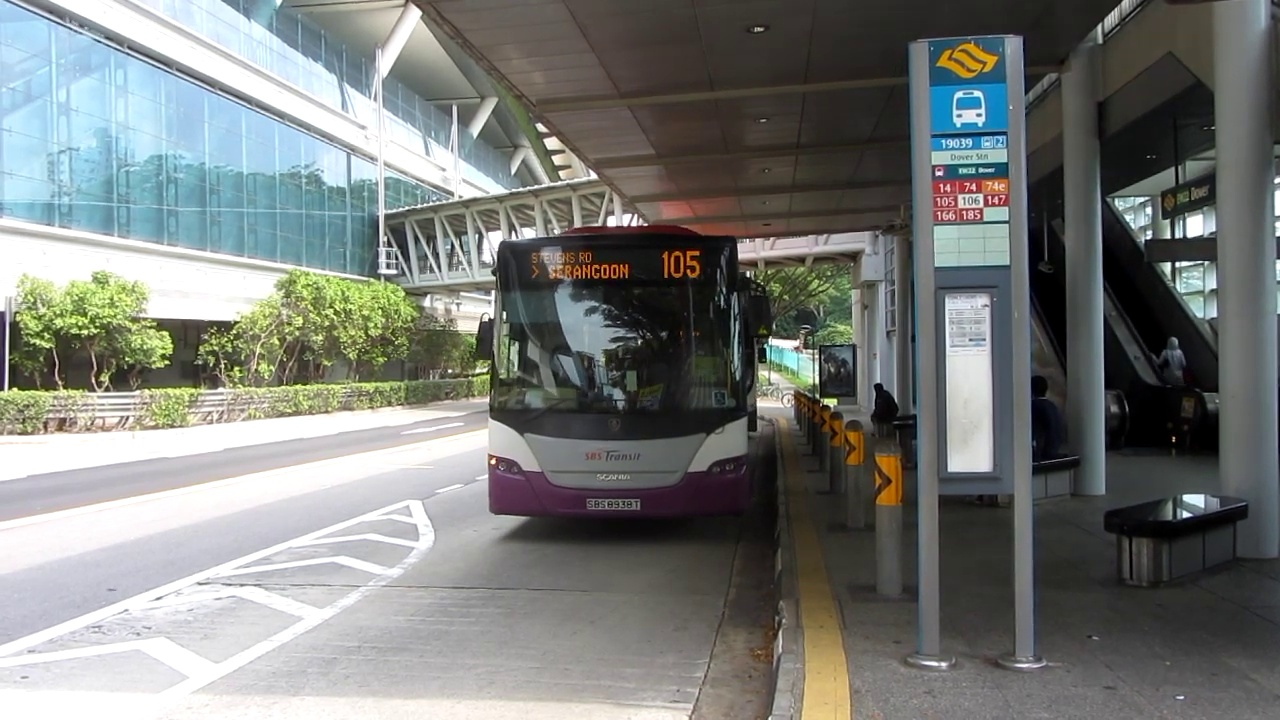bus panel: (523, 245, 707, 283)
